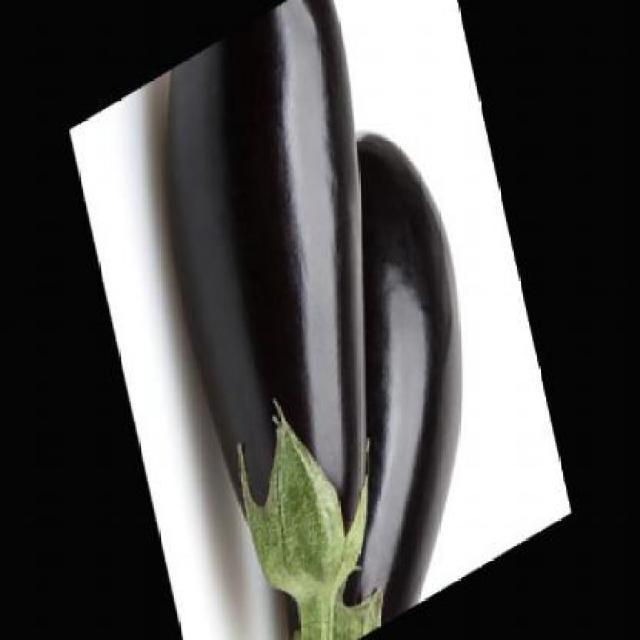eggplant: (132, 0, 465, 638), (180, 90, 516, 638)
